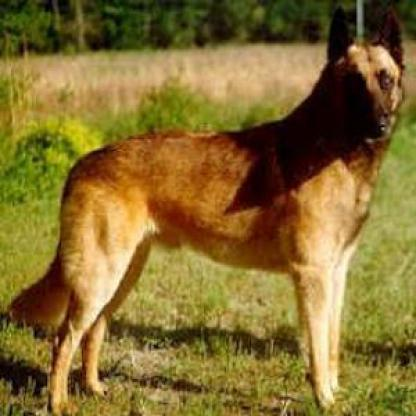malinois: (6, 6, 408, 413)
